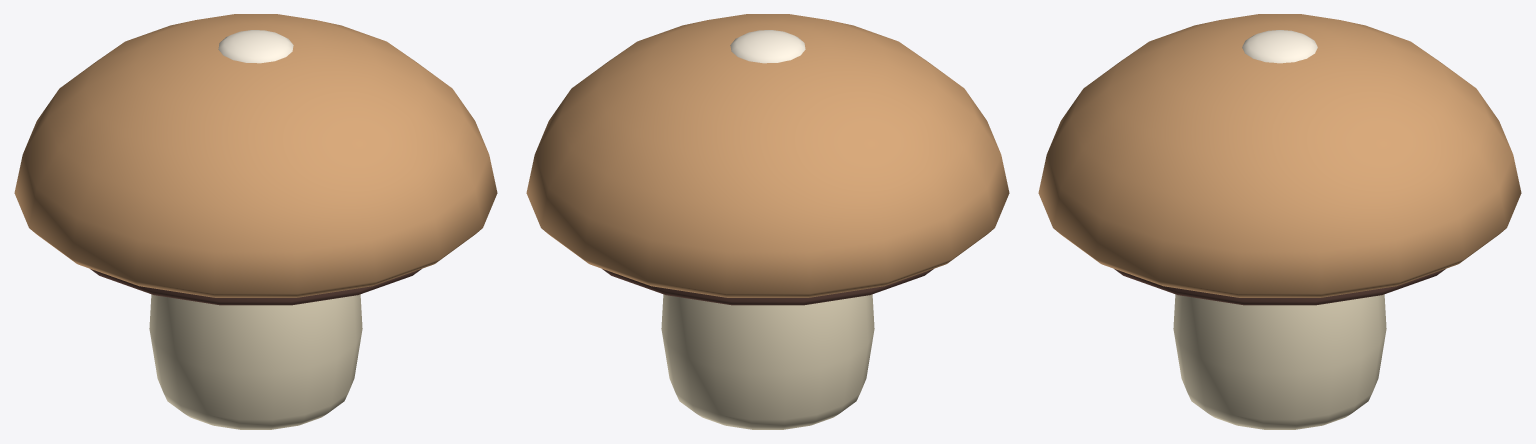
The model's file is mushroom.glb.
The picture shows the model from 3 angles, left to right: view 1: azimuth 30°, elevation 25°; view 2: azimuth 150°, elevation 25°; view 3: azimuth 270°, elevation 25°; orthographic projection.
Visible parts, largest first — view 1: MushroomStem; view 2: MushroomStem; view 3: MushroomStem.
Part boxes in pixels (x1,y1,x2,y2): MushroomStem: [14, 14, 497, 429]; MushroomStem: [526, 14, 1009, 429]; MushroomStem: [1038, 14, 1521, 429].
Size of the model in its own units: 0.4235 by 0.3522 by 0.43.
